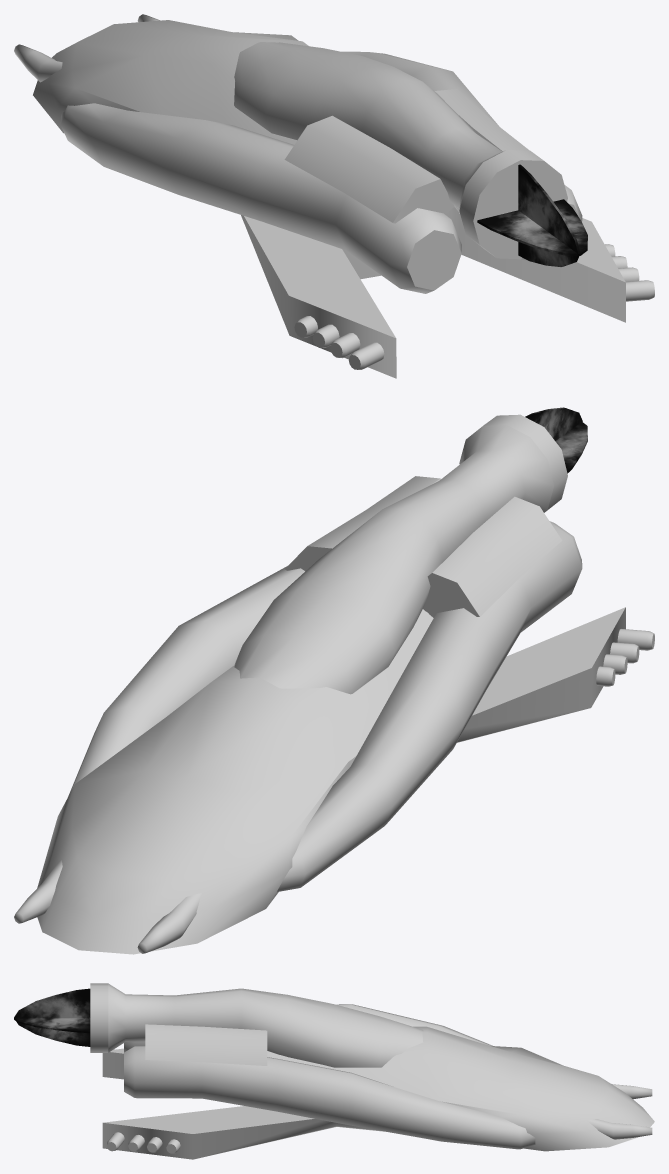
File: boat_01.fbx
The picture shows the model from 3 angles, top to bottom: view 1: azimuth 30°, elevation 25°; view 2: azimuth 150°, elevation 25°; view 3: azimuth 270°, elevation 25°; orthographic projection. The views are drawn at different scales.
Parts seen in each view (by area): view 1: boat_01_mesh, fire1; view 2: boat_01_mesh, fire1; view 3: boat_01_mesh, fire1.
Boxes of the visible parts, x1=… form: boat_01_mesh: x1=14, y1=14, x2=654, y2=378; fire1: x1=477, y1=164, x2=587, y2=266; boat_01_mesh: x1=14, y1=414, x2=654, y2=954; fire1: x1=525, y1=407, x2=587, y2=473; boat_01_mesh: x1=90, y1=983, x2=654, y2=1159; fire1: x1=14, y1=988, x2=90, y2=1046.
Bounding box in the file's own units: 15.29 × 9.74 × 41.82.
